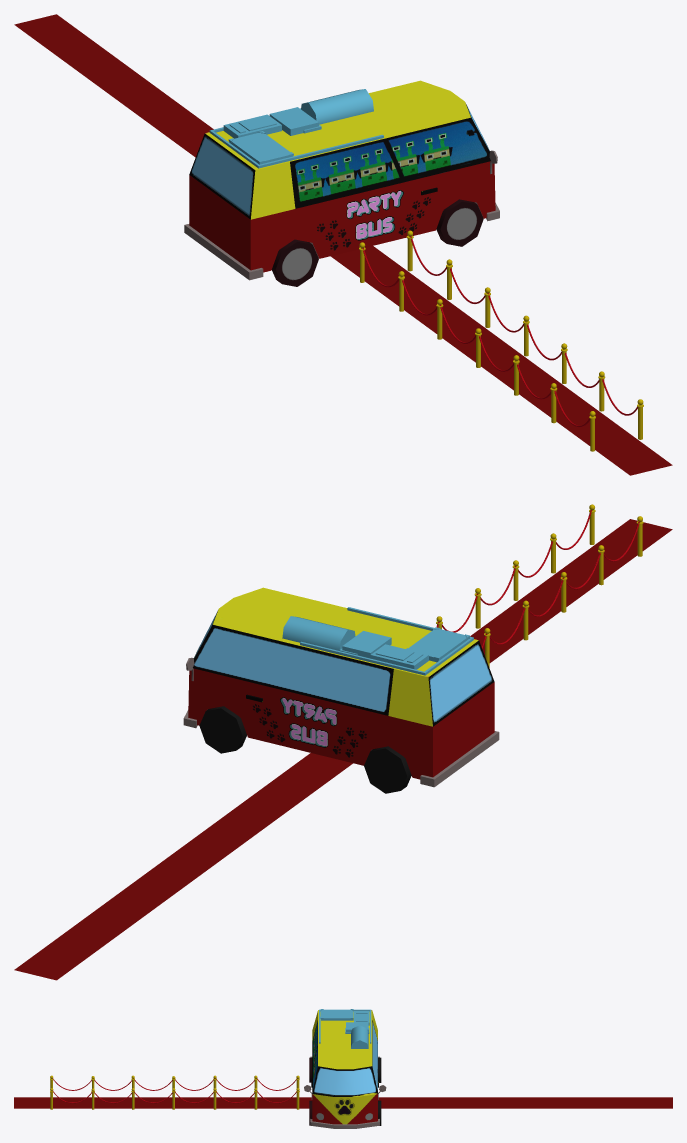
Rendered from Red-Carpet.FBX.
The picture shows the model from 3 angles, top to bottom: view 1: azimuth 30°, elevation 25°; view 2: azimuth 150°, elevation 25°; view 3: azimuth 270°, elevation 25°; orthographic projection. The views are drawn at different scales.
Parts seen in each view (by area): view 1: scp_sb_car_01, Plane001, scp_sb_car_01_luggage, scp_sb_car_01_wheel_01, scp_sb_car_01_wheel_005; view 2: scp_sb_car_01, Plane001, scp_sb_car_01_luggage, scp_sb_car_01_wheel_03, scp_sb_car_01_wheel_04; view 3: Plane001, scp_sb_car_01, scp_sb_car_01_luggage.
Boxes of the visible parts, <box> form: scp_sb_car_01: <box>184,80,499,280</box>; Plane001: <box>14,14,672,475</box>; scp_sb_car_01_luggage: <box>209,89,383,168</box>; scp_sb_car_01_wheel_01: <box>436,199,483,246</box>; scp_sb_car_01_wheel_005: <box>271,239,318,286</box>; scp_sb_car_01: <box>183,587,499,787</box>; Plane001: <box>14,519,672,980</box>; scp_sb_car_01_luggage: <box>282,607,473,675</box>; scp_sb_car_01_wheel_03: <box>199,706,246,753</box>; scp_sb_car_01_wheel_04: <box>364,746,411,793</box>; Plane001: <box>14,1097,672,1108</box>; scp_sb_car_01: <box>304,1010,386,1128</box>; scp_sb_car_01_luggage: <box>319,1009,371,1048</box>.
Size of what is drawn, in the model's own units: 312 by 154 by 1270.
